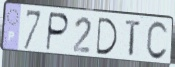2: (72, 16, 94, 56)
7: (23, 9, 43, 51)
C: (145, 20, 170, 62)
D: (95, 16, 119, 57)
P: (45, 11, 71, 53)
T: (124, 19, 143, 59)
